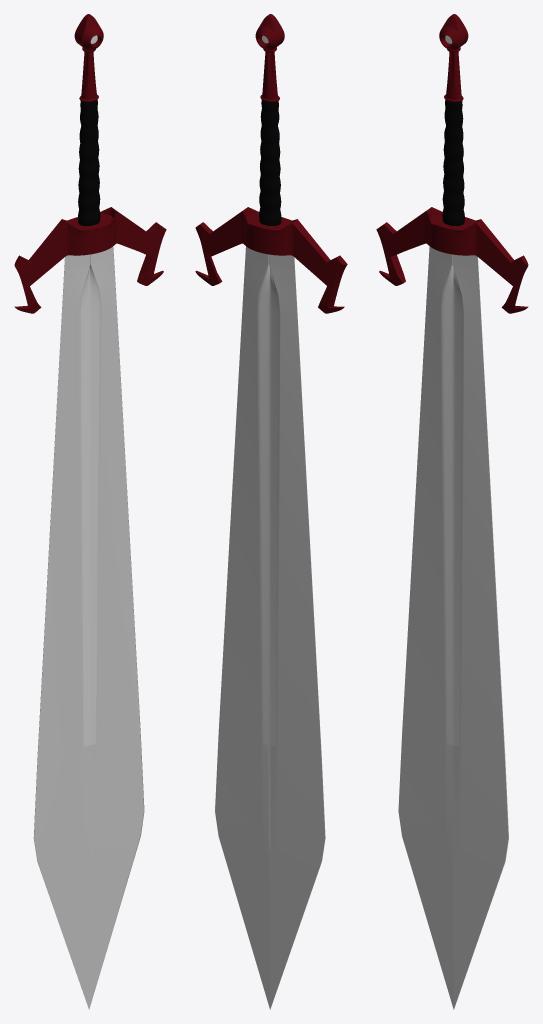
File: Sword.fbx
3 views of the same model, side by side, from view 1: azimuth 30°, elevation 25°; view 2: azimuth 150°, elevation 25°; view 3: azimuth 330°, elevation 25° (orthographic).
Parts seen in each view (by area): view 1: Cube, Cylinder, Cylinder.001, Cylinder.003, Cylinder.002; view 2: Cube, Cylinder, Cylinder.001, Cylinder.003, Cylinder.002; view 3: Cube, Cylinder, Cylinder.001, Cylinder.003, Cylinder.002.
Part boxes in pixels (bbox=[...]): Cube: bbox=[33, 246, 144, 1009]; Cylinder: bbox=[14, 207, 166, 313]; Cylinder.001: bbox=[77, 99, 100, 225]; Cylinder.003: bbox=[74, 14, 103, 50]; Cylinder.002: bbox=[79, 47, 98, 102]; Cube: bbox=[215, 246, 325, 1009]; Cylinder: bbox=[195, 207, 347, 313]; Cylinder.001: bbox=[259, 100, 281, 225]; Cylinder.003: bbox=[255, 14, 284, 50]; Cylinder.002: bbox=[260, 47, 279, 102]; Cube: bbox=[398, 246, 508, 1009]; Cylinder: bbox=[376, 207, 528, 313]; Cylinder.001: bbox=[442, 99, 464, 225]; Cylinder.003: bbox=[439, 14, 468, 50]; Cylinder.002: bbox=[444, 47, 463, 102].
Size of the model in its own units: 25.19 by 158 by 4.68.
